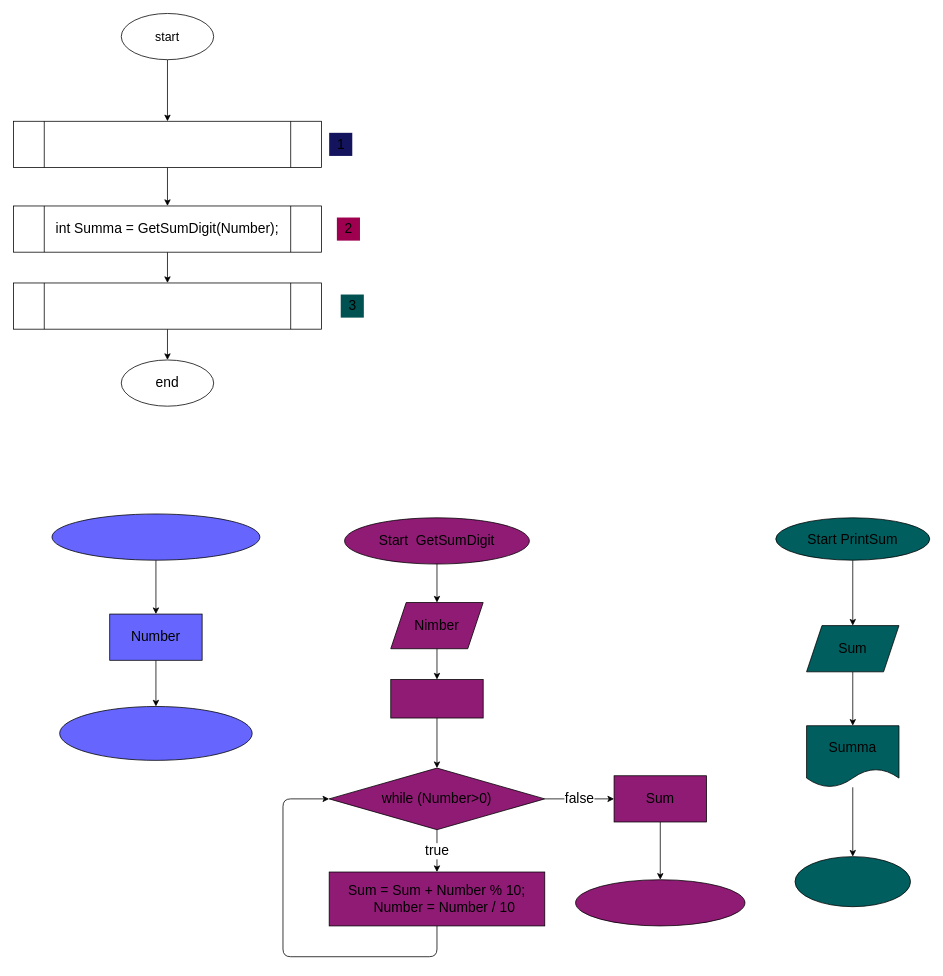
This 943x976 diagram has some shape labels left out. Each missing label, with the box of its shape:
End GetNumberByUser();: (59, 706, 252, 760)
End GetSumDigit: (575, 879, 745, 926)
End PrintSum: (794, 856, 911, 907)
int Number = GetNumberByUser();: (13, 121, 321, 167)
PrintSum(Summa);: (13, 282, 321, 329)
Start GetNumberByUser();: (51, 513, 260, 560)
Sum=0: (390, 679, 483, 718)
